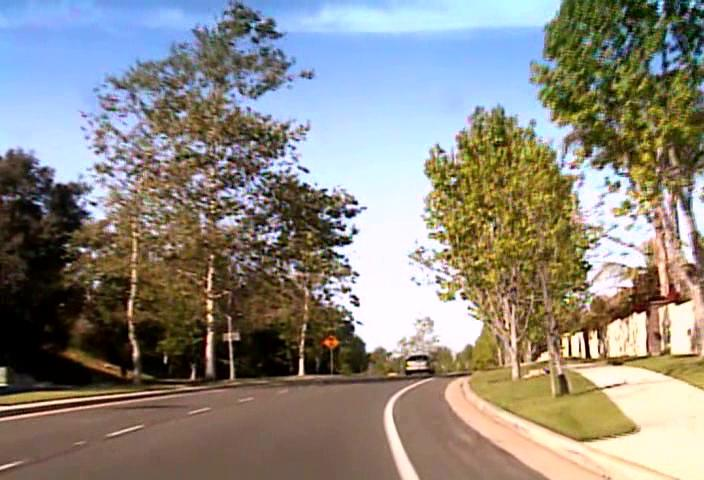signalAhead: (322, 333, 341, 350)
